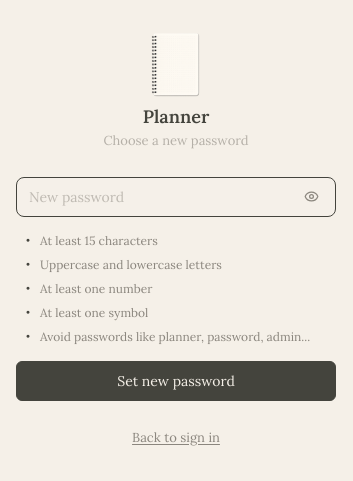
it: ResetPasswordPage › falls back to a form-level message for an unrecognised code
The image size is (353, 481).
Step 1. Type "Correct-horse-battery-staple-2" into the password field with placeholder "New password" → x=160, y=196, box [29,186,291,206]
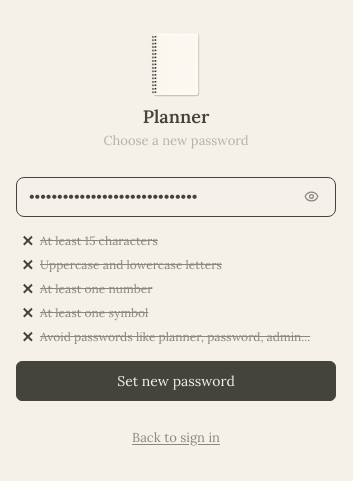
Step 2. Click the button "Set new password" → x=176, y=380, box [16,360,336,400]
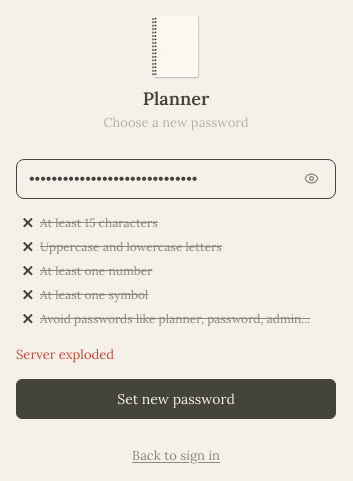
Check: the message reads "Server exploded", box [16,346,114,362]
